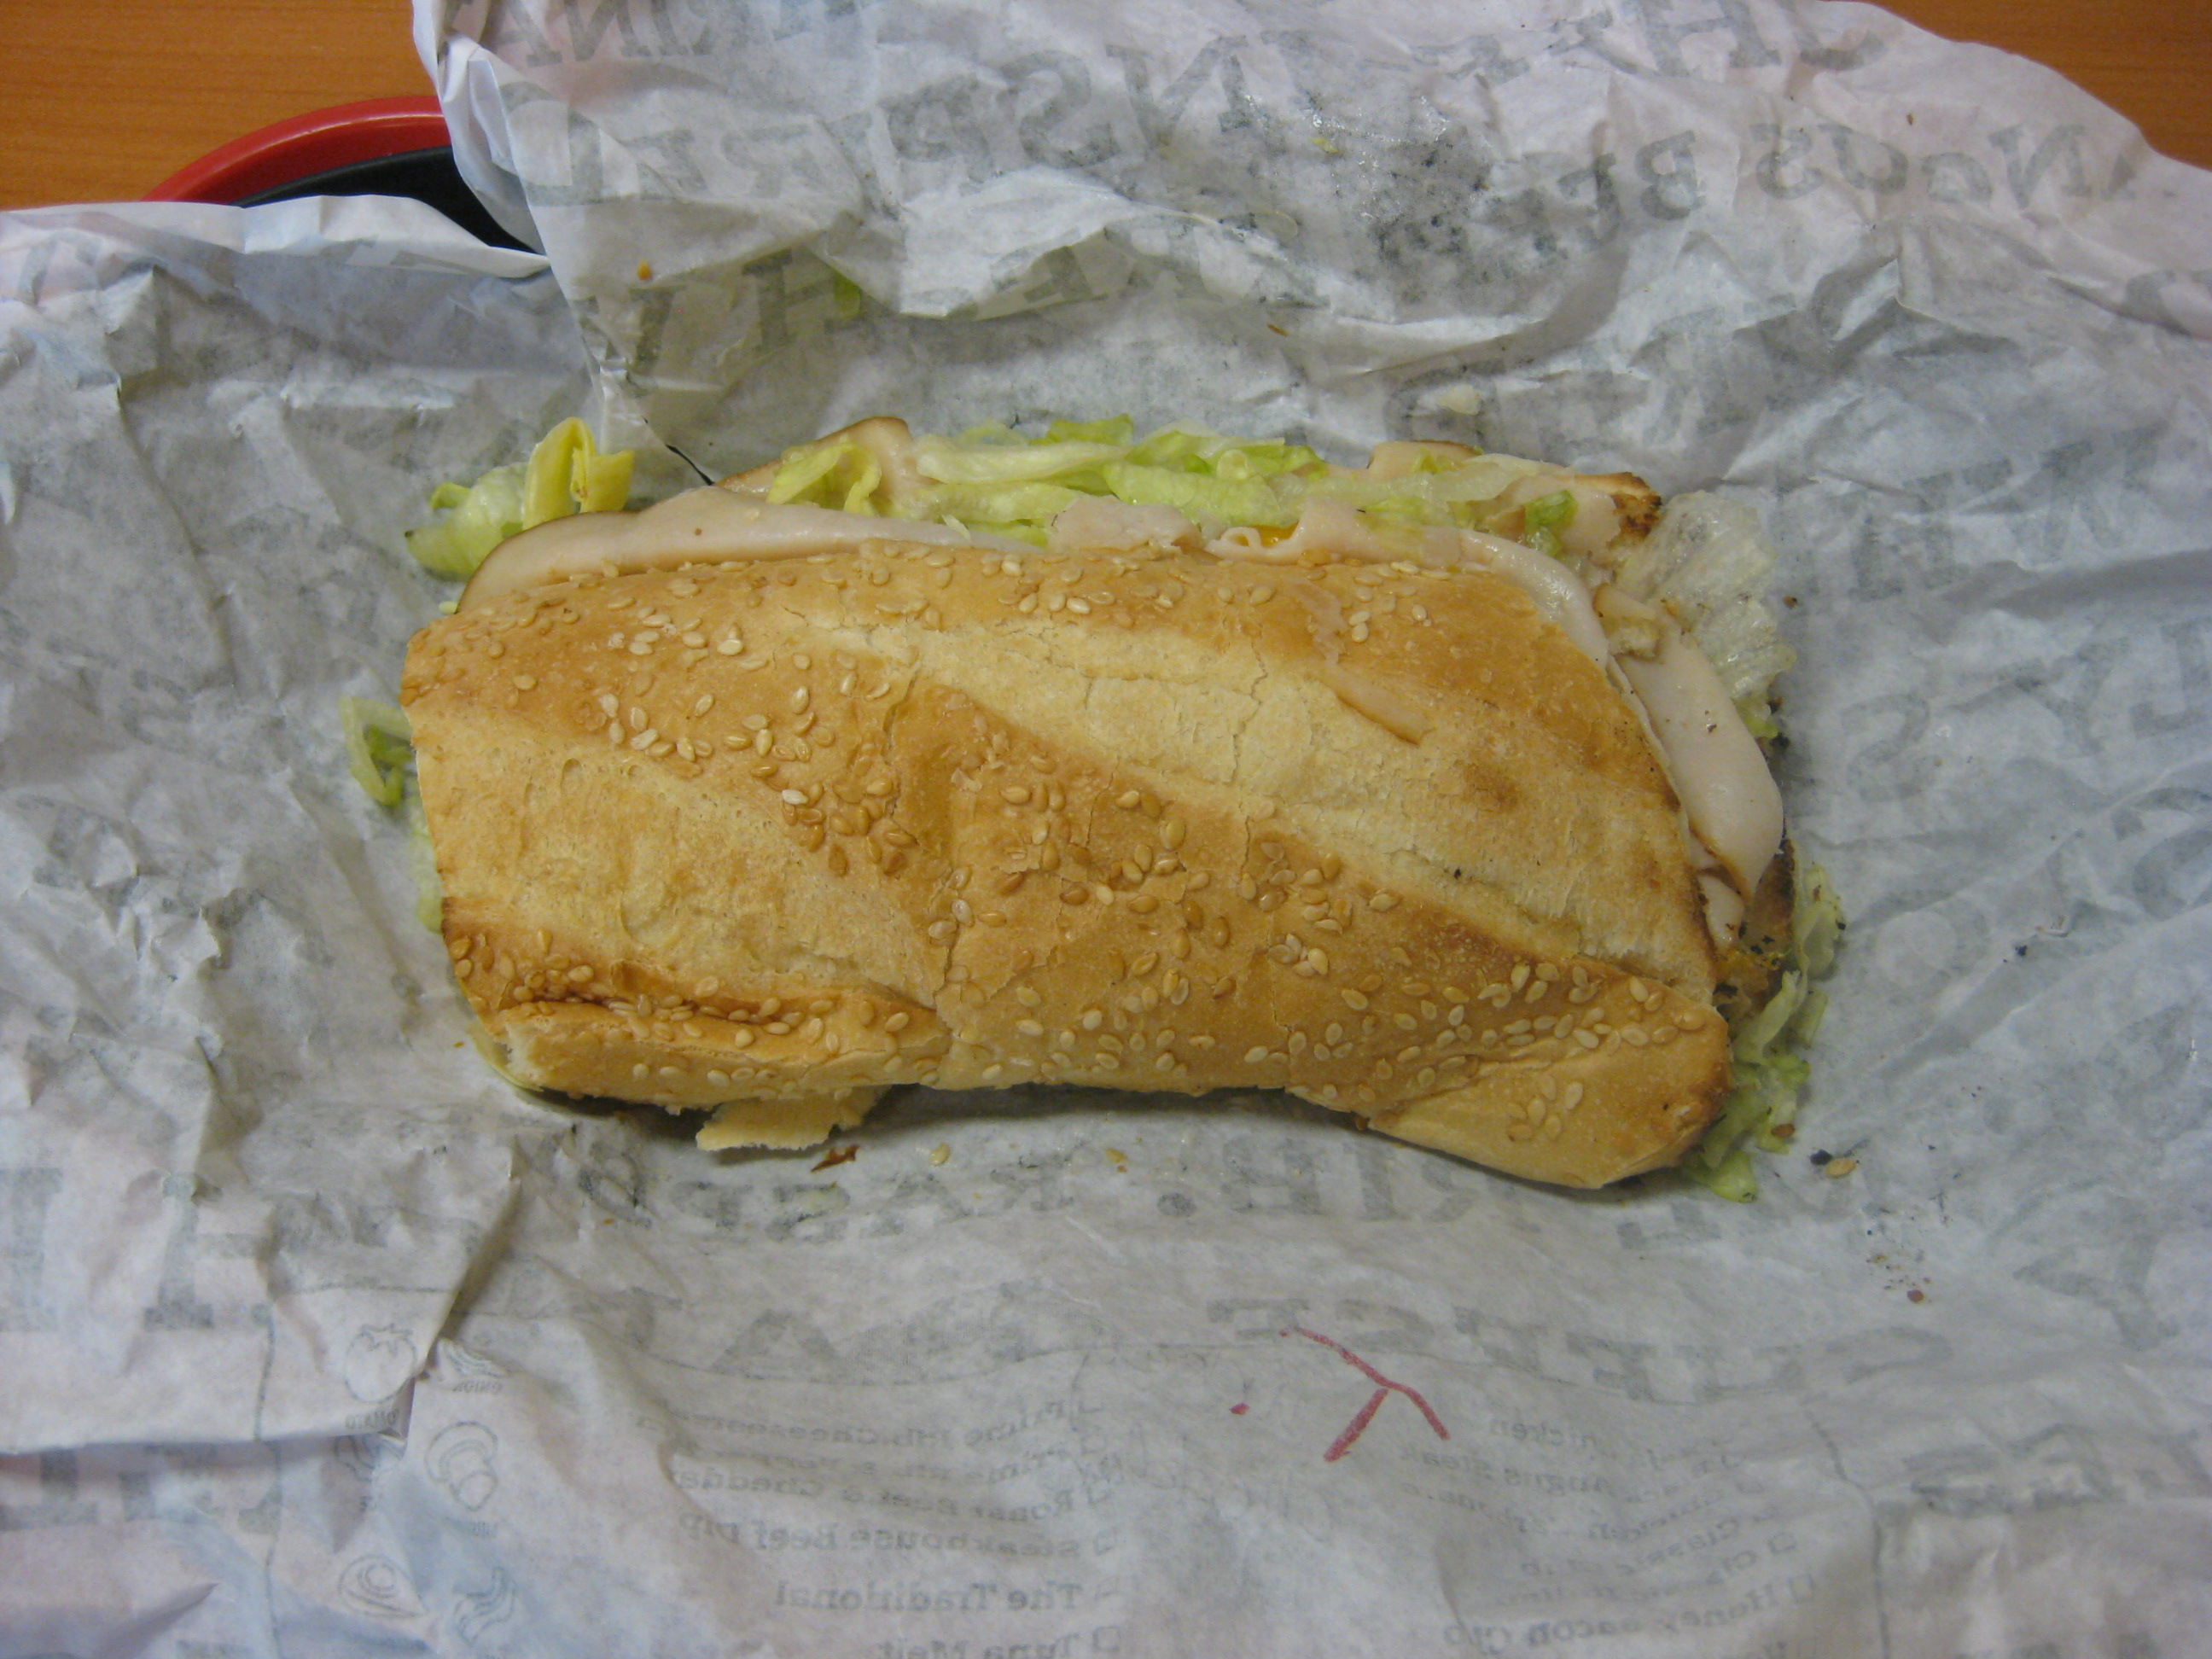sub: (387, 436, 1829, 1187)
